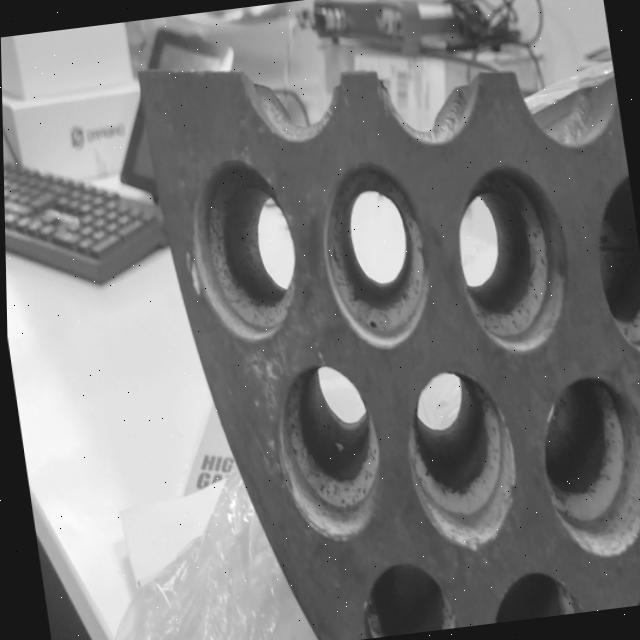Hole: (444, 157, 578, 360), (175, 152, 309, 348), (310, 155, 437, 354), (395, 362, 524, 554), (264, 358, 389, 547), (527, 367, 640, 564), (583, 171, 640, 366), (351, 554, 456, 638), (480, 563, 583, 623)
